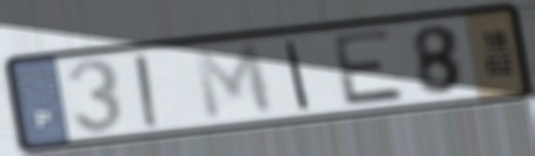3: (64, 55, 127, 138)
8: (408, 22, 467, 98)
E: (328, 26, 410, 109)
I: (131, 52, 165, 131), (282, 38, 313, 112)
M: (190, 40, 278, 124)
